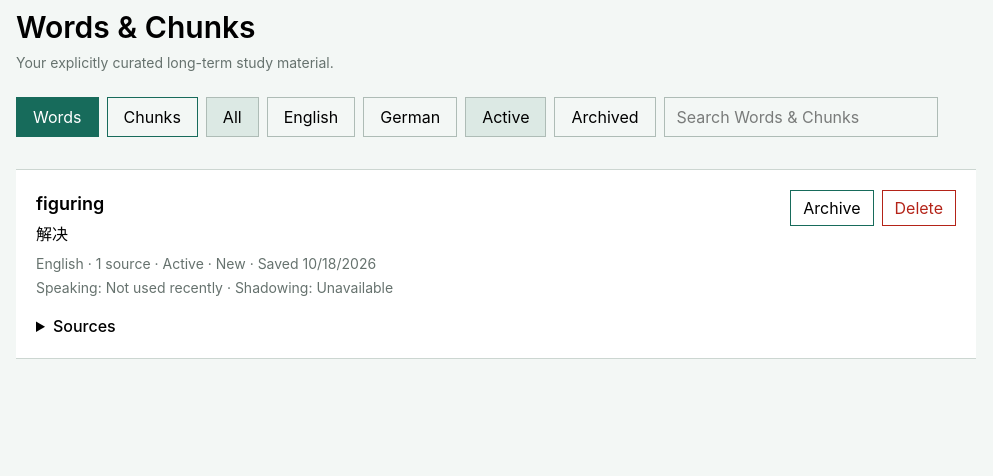
Words & Chunks page › shows curated words and their complete provenance
The image size is (993, 476).
Check: the heading "figuring" is shown, box [36,193,104,214]
Click the heading "Sources".
click(84, 326)  # box [53,316,116,336]
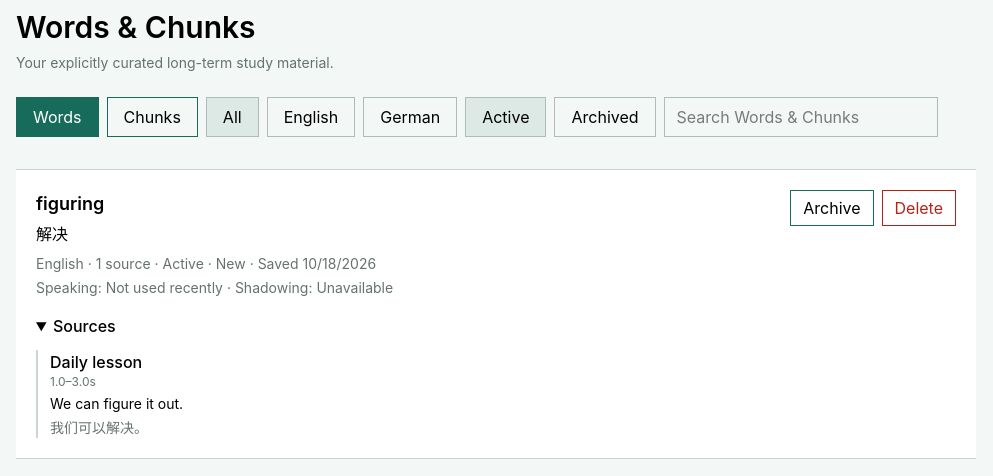
Check: the text "Daily lesson" is shown, box [50,352,142,372]
Check: the text "1.0–3.0s" is shown, box [50,374,96,389]
Check: the text "We can figure it out." is shown, box [50,395,183,412]
